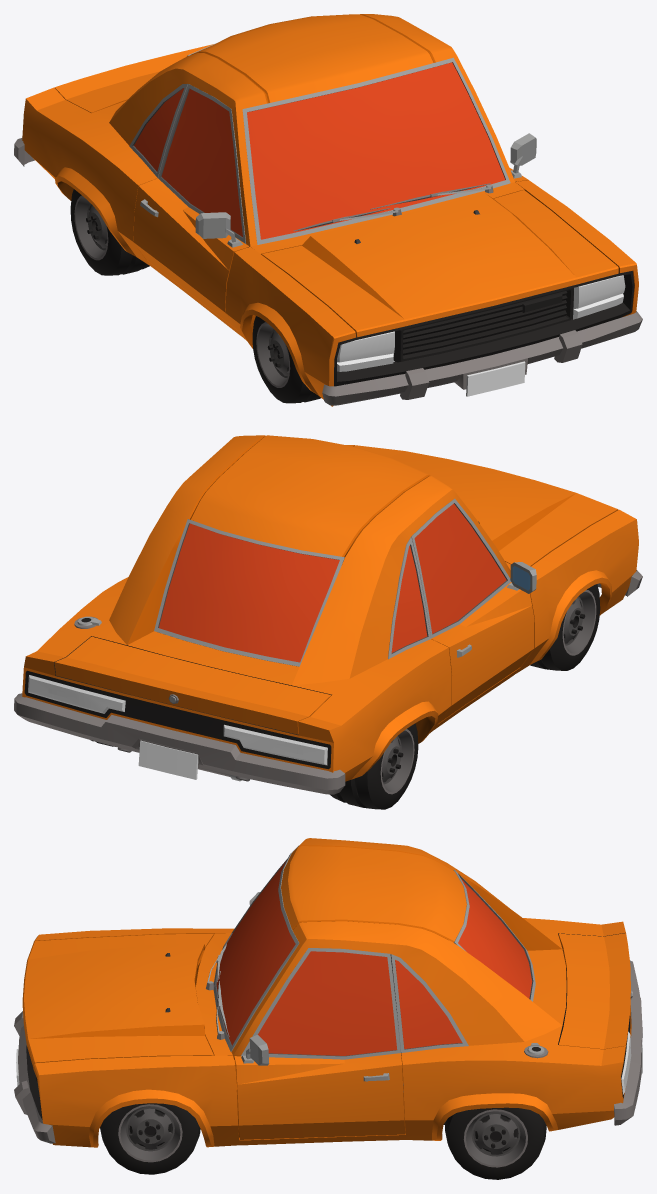
Rendered from Sketchfab_2022_06_29_21_24_53.fbx.
3 views of the same model, one above another, from view 1: azimuth 30°, elevation 25°; view 2: azimuth 150°, elevation 25°; view 3: azimuth 270°, elevation 25° (orthographic). The views are drawn at different scales.
Parts seen in each view (by area): view 1: Body, Bonet, Doors_R, Grill_F, Fender_FR, Bumper_F, BootLid, Wheel_RR, Wheel_FR, Fender_FL, HeadlightGlass_FR, HeadlightGlass_FL (+2 smaller); view 2: Body, Doors_R, BootLid, Bonet, Bumper_R, Fender_FR, Wheel_RR, Wheel_FR, HeadlightGlass_RR, HeadlightGlass_RL; view 3: Body, Doors_L, Bonet, Fender_FL, BootLid, Wheel_RL, Wheel_FL, Bumper_R, Bumper_F, Fender_FR, WindshieldWipers.
Part boxes in pixels (box(x1,y1,x2,y2)): Body: box(22, 14, 524, 336); Bonet: box(261, 190, 618, 337); Doors_R: box(133, 84, 249, 329); Grill_F: box(334, 271, 634, 385); Fender_FR: box(225, 247, 356, 406); Bumper_F: box(322, 311, 642, 405); BootLid: box(54, 44, 213, 112); Wheel_RR: box(70, 189, 149, 275); Wheel_FR: box(252, 316, 341, 403); Fender_FL: box(515, 180, 638, 316); HeadlightGlass_FR: box(337, 331, 394, 371); HeadlightGlass_FL: box(573, 275, 625, 319); Body: box(22, 435, 520, 781); Doors_R: box(411, 498, 536, 723); BootLid: box(54, 636, 331, 734); Bonet: box(354, 445, 618, 566); Bumper_R: box(14, 693, 345, 794); Fender_FR: box(516, 509, 638, 673); Wheel_RR: box(330, 723, 418, 809); Wheel_FR: box(530, 584, 600, 670); HeadlightGlass_RR: box(223, 724, 327, 765); HeadlightGlass_RL: box(28, 675, 125, 713); Body: box(195, 838, 631, 1145); Doors_L: box(234, 948, 405, 1139); Bonet: box(22, 933, 213, 1066); Fender_FL: box(33, 1055, 239, 1147); BootLid: box(558, 933, 632, 1049); Wheel_RL: box(445, 1107, 546, 1179); Wheel_FL: box(100, 1103, 200, 1174); Bumper_R: box(614, 960, 642, 1125); Bumper_F: box(14, 1011, 55, 1143); Fender_FR: box(34, 928, 233, 941); WindshieldWipers: box(206, 944, 229, 1039).
Size of the model in its own units: 135 by 94.48 by 229.
